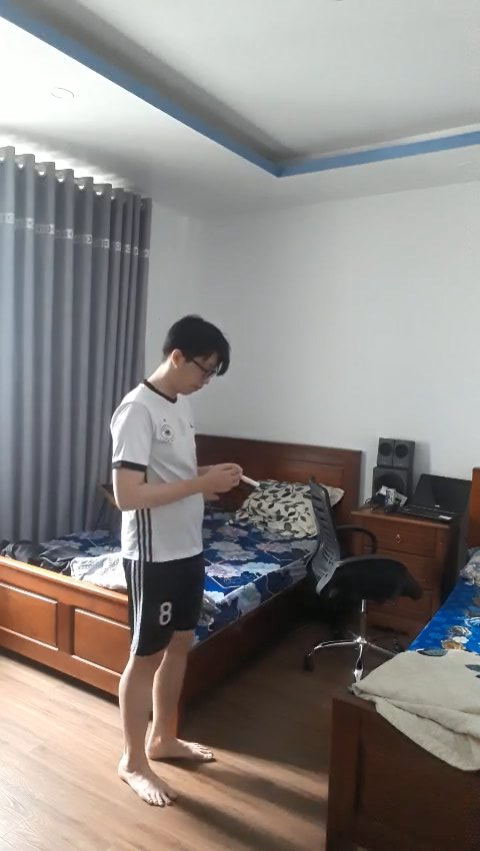cigarette: (243, 476, 263, 487)
person: (85, 294, 270, 814)
